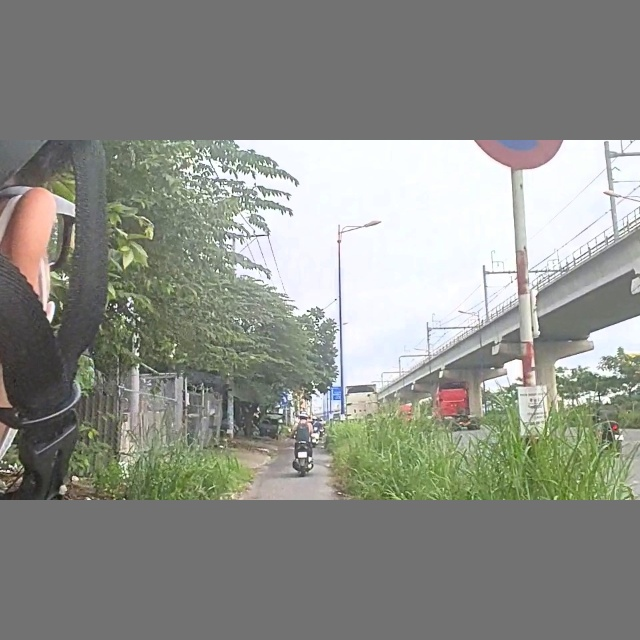I.409: (277, 394, 288, 405)
